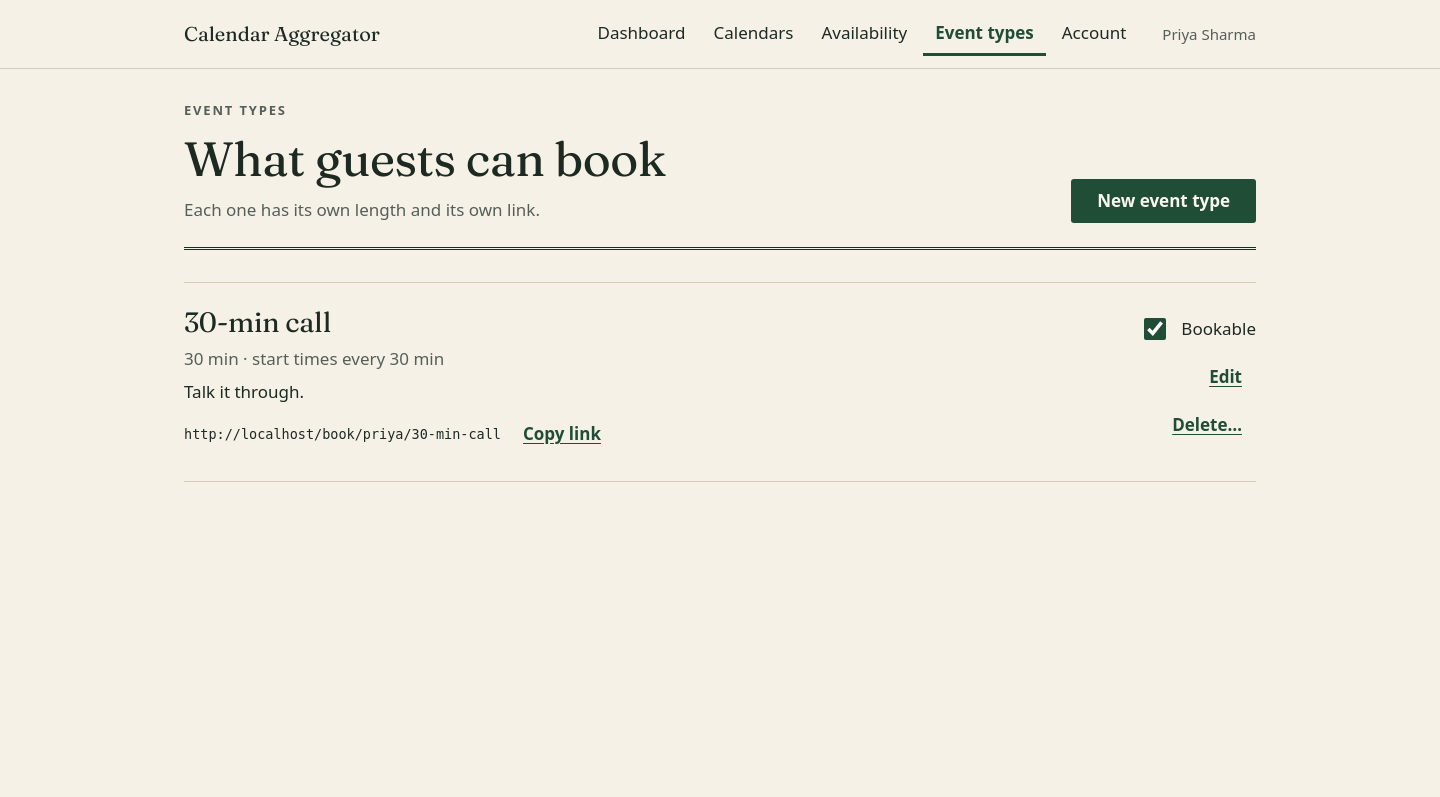
it: the event types page › refuses a blank title before sending
This screenshot has width=1440, height=797.
Click the button "New event type" at (1164, 201), box x1=1071 y1=179 x2=1256 y2=223
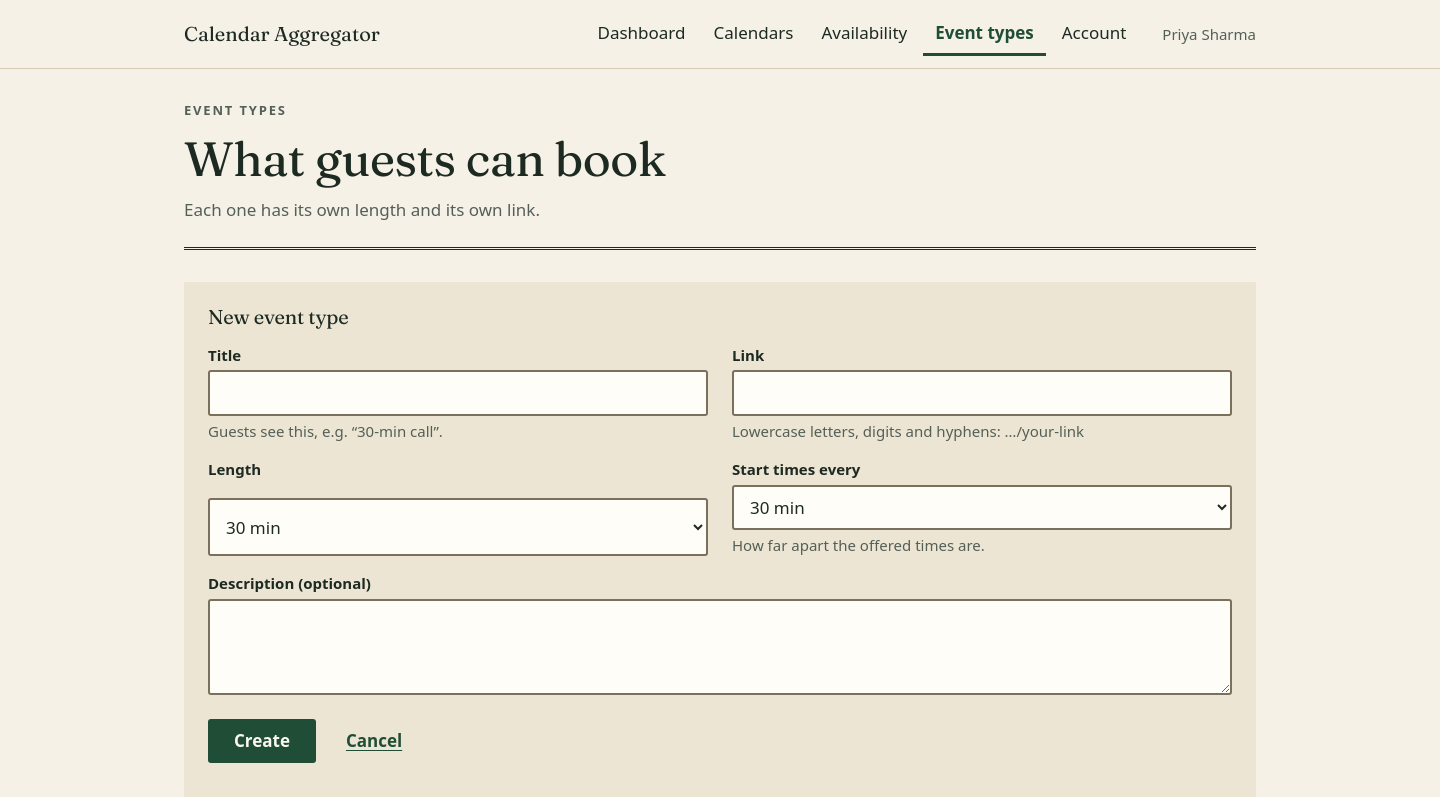
Click the button "Create" at (262, 741), box x1=208 y1=719 x2=316 y2=763
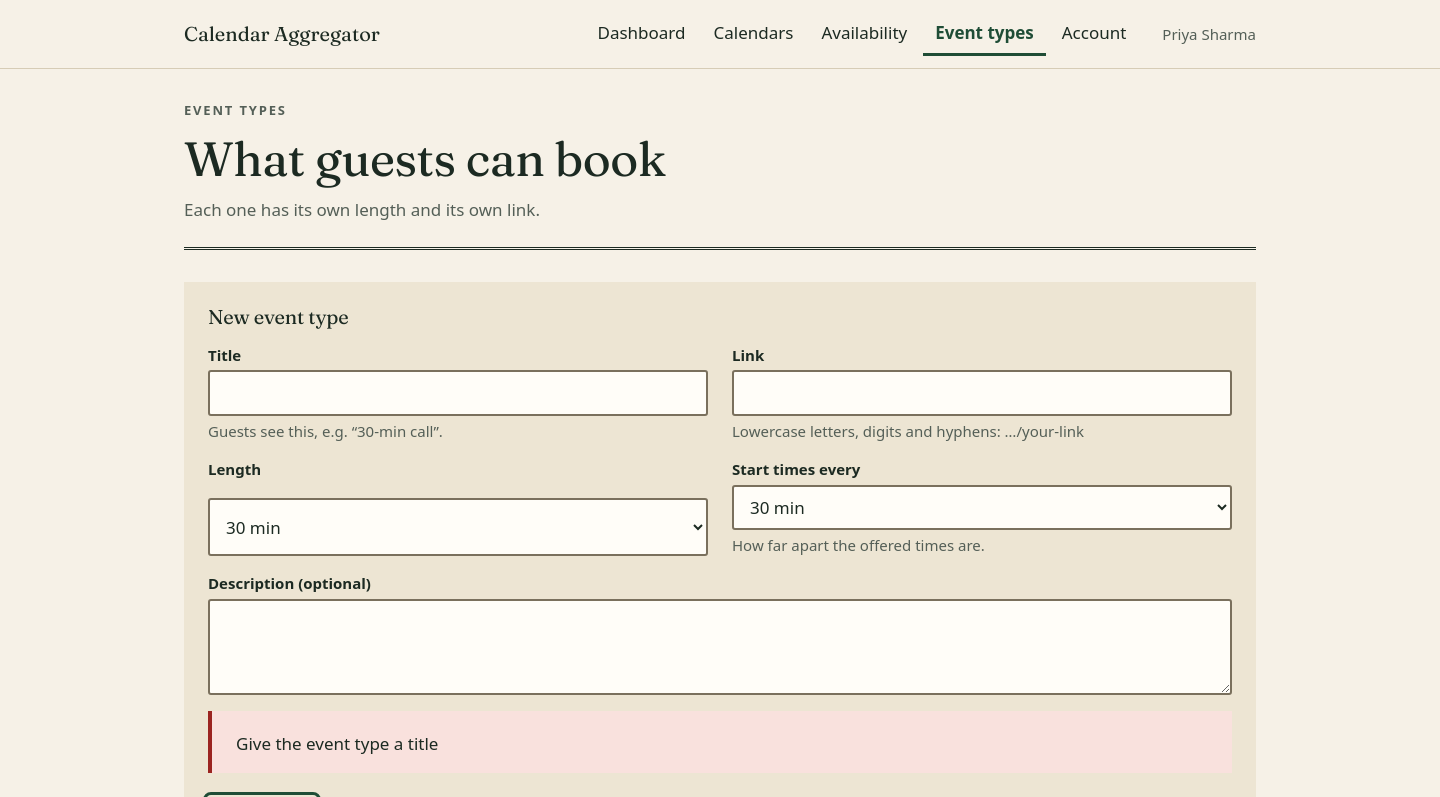
Now the text "Give the event type a title" is shown, box x1=236 y1=732 x2=438 y2=755
